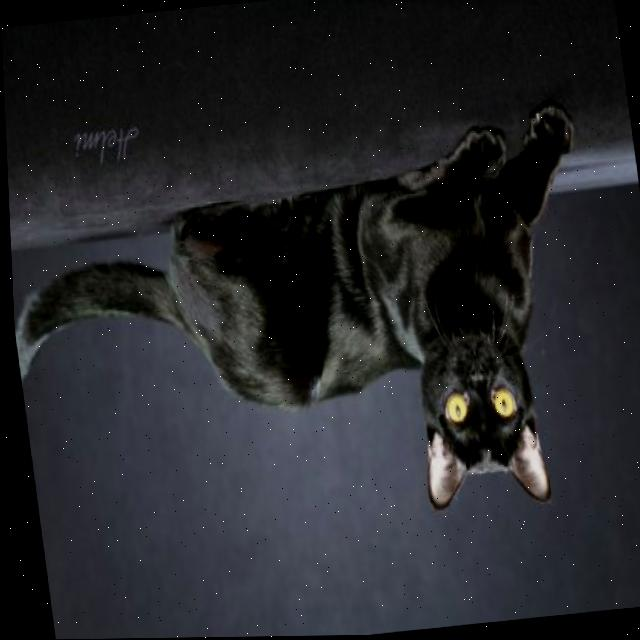Bombay: (4, 98, 622, 564)
